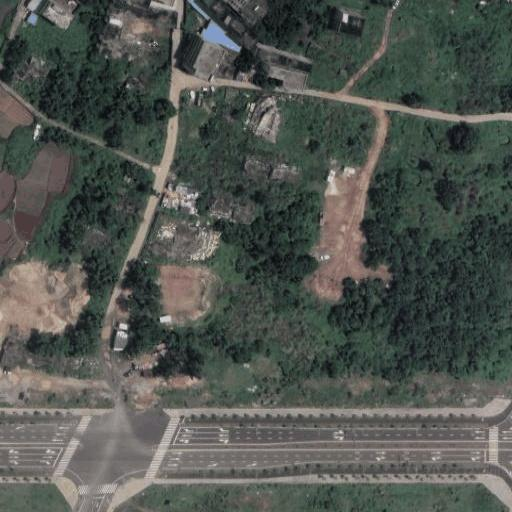building: (202, 189, 258, 229), (206, 14, 246, 54), (193, 42, 225, 83), (266, 66, 308, 93), (239, 0, 275, 27), (238, 154, 272, 182), (43, 2, 74, 30), (266, 162, 300, 187), (338, 13, 365, 37), (256, 49, 287, 66), (102, 7, 124, 30), (124, 0, 176, 9), (285, 57, 311, 73), (240, 30, 259, 49), (114, 331, 127, 350), (26, 10, 40, 25), (178, 205, 193, 216), (187, 186, 199, 196), (175, 185, 188, 194), (236, 71, 245, 83)
